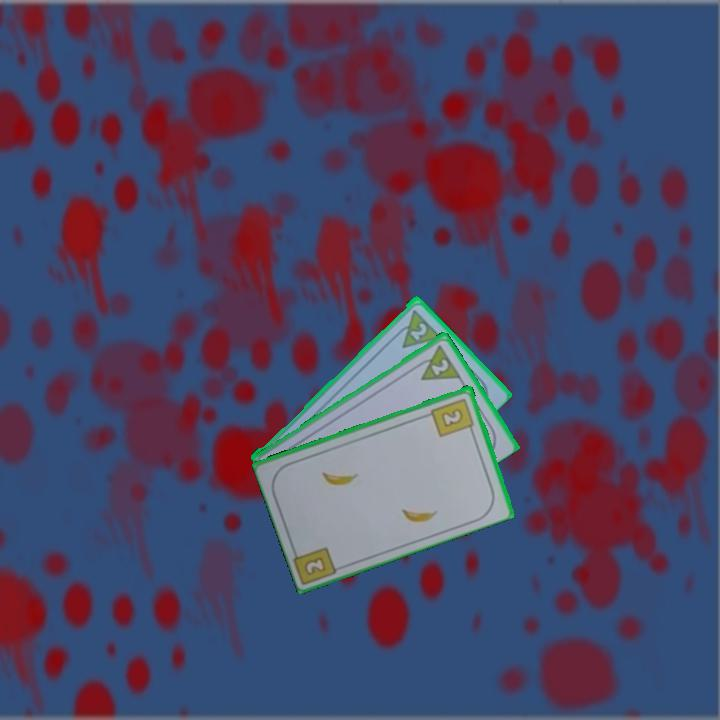2b: (428, 394, 477, 440), (301, 553, 329, 578)
2p: (407, 319, 430, 343), (428, 355, 452, 378)
